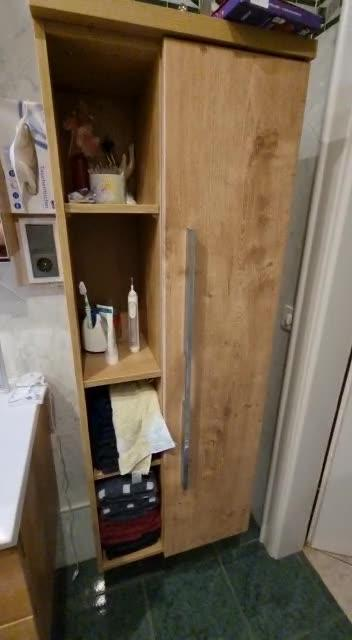cabinet_door: (166, 38, 276, 541)
handle: (176, 220, 204, 502)
